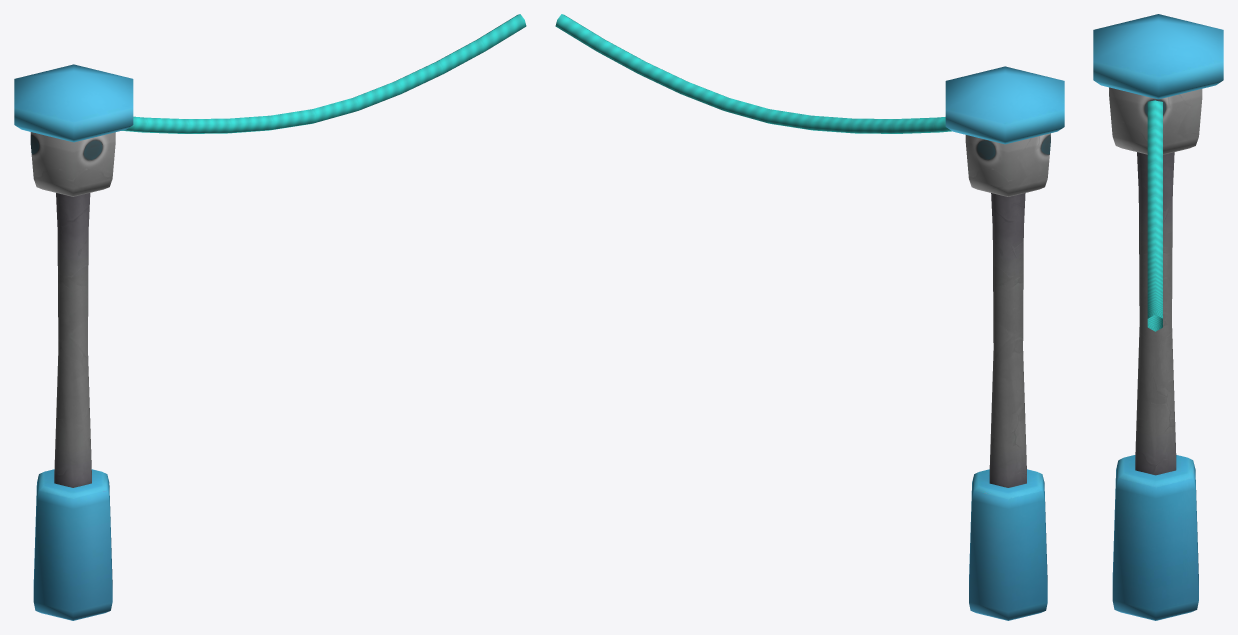
Rendered from Post_02.fbx.
3 views of the same model, side by side, from view 1: azimuth 30°, elevation 25°; view 2: azimuth 150°, elevation 25°; view 3: azimuth 270°, elevation 25° (orthographic). The views are drawn at different scales.
Parts seen in each view (by area): view 1: Post_02; view 2: Post_02; view 3: Post_02.
Part boxes in pixels (<box>): Post_02: <box>14,14,526,620</box>; Post_02: <box>555,14,1064,620</box>; Post_02: <box>1093,14,1223,620</box>.
Bounding box in the file's own units: 4.21 × 4.21 × 0.8524.
